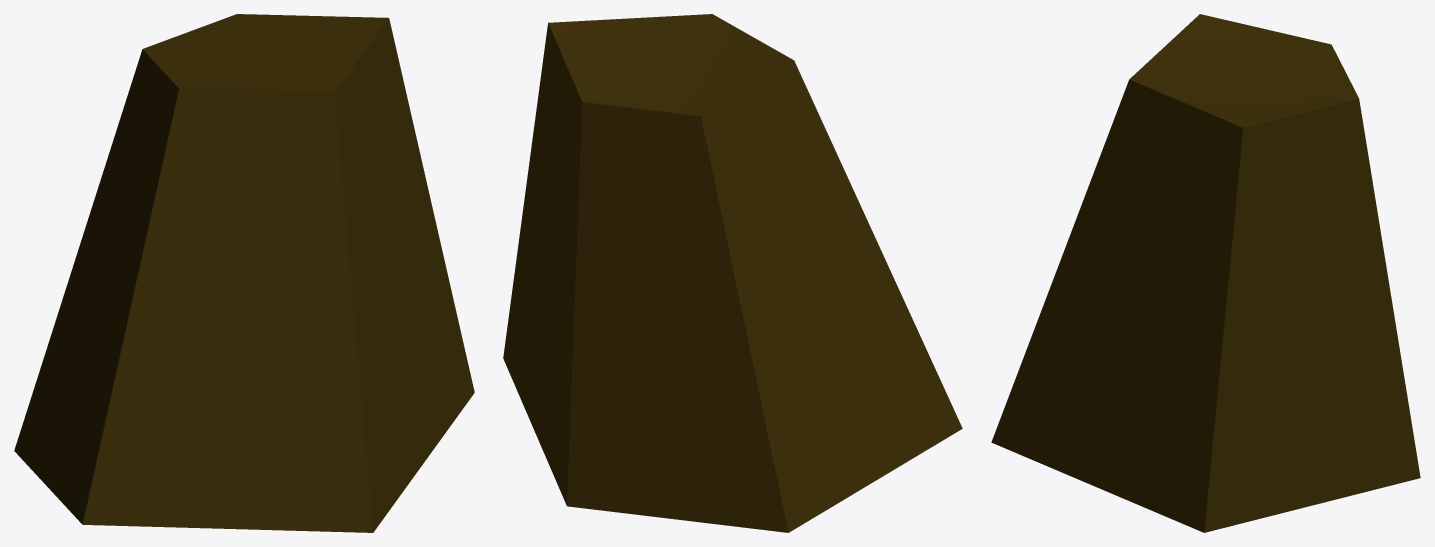
File: fire_projectile.fbx
3 renders of one model, left to right at view 1: azimuth 30°, elevation 25°; view 2: azimuth 150°, elevation 25°; view 3: azimuth 270°, elevation 25°, orthographic. The views are drawn at different scales.
Visible parts, largest first — view 1: Object003; view 2: Object003; view 3: Object003.
Boxes of the visible parts, left/top/right/bottom form: Object003: left=14, top=14, right=474, bottom=532; Object003: left=503, top=14, right=962, bottom=532; Object003: left=991, top=14, right=1420, bottom=532.
Bounding box in the file's own units: 72.74 × 65.53 × 63.02.
